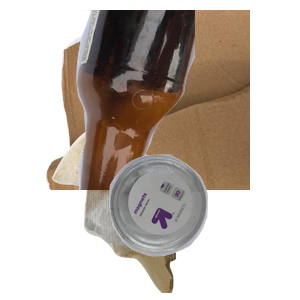cardboard: (43, 10, 283, 190)
glass: (60, 10, 300, 190)
plastic: (107, 152, 300, 300)
trash: (50, 120, 219, 300)
